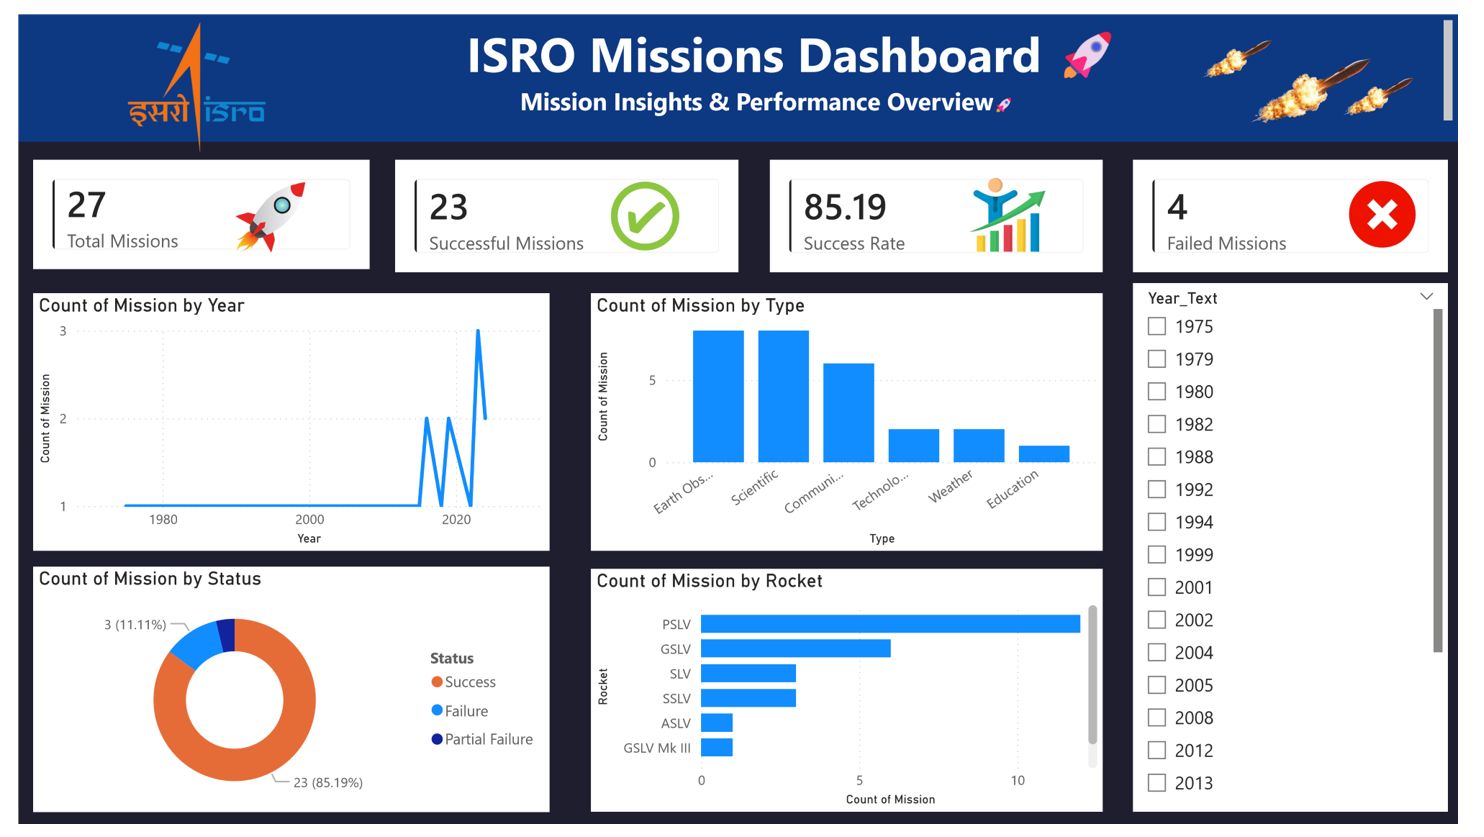

This screenshot's page, from the dashboard's own definition file:
{"tool":"powerbi","page":{"name":"Page 1","canvas":[1280,720],"ordinal":0},"visuals":[{"type":"cardVisual","fields":{"Data":["Sheet1.Total Missions"]},"box":[12.9,128.9,299.6,96.6],"z":0},{"type":"cardVisual","fields":{"Data":["Sheet1.Successful Missions"]},"box":[335,128.9,305,99.9],"z":1000},{"type":"cardVisual","fields":{"Data":["Sheet1.Success Rate"]},"box":[667.9,128.9,296.4,99.9],"z":2000},{"type":"cardVisual","fields":{"Data":["Sheet1.Failed Missions"]},"box":[991.1,128.9,280.3,99.9],"z":3000},{"type":"lineChart","fields":{"Category":["Sheet1.Year"],"Y":["CountNonNull(Sheet1.Mission)"]},"box":[12.9,248.1,459.6,228.7],"z":4000},{"type":"donutChart","fields":{"Category":["Sheet1.Status"],"Y":["CountNonNull(Sheet1.Mission)"]},"box":[12.9,490.7,459.6,218],"z":5000},{"type":"clusteredBarChart","fields":{"Category":["Sheet1.Rocket"],"Y":["CountNonNull(Sheet1.Mission)"]},"box":[509,492.9,455.3,215.8],"z":6000},{"type":"clusteredColumnChart","fields":{"Category":["Sheet1.Type"],"Y":["CountNonNull(Sheet1.Mission)"]},"box":[509,248.1,455.3,228.7],"z":7000},{"type":"slicer","fields":{"Values":["Sheet1.Year_Text"]},"box":[991.1,239.5,280.3,469.3],"z":8000},{"type":"textbox","box":[0,0,1280,112.8],"z":9000},{"type":"image","box":[41.9,0,233,136.4],"z":10000},{"type":"image","box":[136.4,112.8,176.1,133.2],"z":11000},{"type":"image","box":[499.3,143.9,116,69.8],"z":12000},{"type":"image","box":[807.5,143.9,141.7,67.7],"z":13000},{"type":"image","box":[1154.4,140.7,117,73],"z":14000},{"type":"image","box":[1025.5,0,245.9,136.4],"z":15000},{"type":"image","box":[1137.2,33.3,142.8,79.5],"z":16000},{"type":"image","box":[1011.5,0,165.4,112.8],"z":17000}]}

Visuals, with their boxes in screenshot pixels (x1, y1, x2, y2), scaled from the page's 1280x720 canvas onto the 1484x837 screenshot:
cardVisual - Sheet1.Total Missions: left=15, top=150, right=362, bottom=262
cardVisual - Sheet1.Successful Missions: left=388, top=150, right=742, bottom=266
cardVisual - Sheet1.Success Rate: left=774, top=150, right=1118, bottom=266
cardVisual - Sheet1.Failed Missions: left=1149, top=150, right=1474, bottom=266
lineChart - Sheet1.Year x CountNonNull(Sheet1.Mission): left=15, top=288, right=548, bottom=554
donutChart - Sheet1.Status x CountNonNull(Sheet1.Mission): left=15, top=570, right=548, bottom=824
clusteredBarChart - Sheet1.Rocket x CountNonNull(Sheet1.Mission): left=590, top=573, right=1118, bottom=824
clusteredColumnChart - Sheet1.Type x CountNonNull(Sheet1.Mission): left=590, top=288, right=1118, bottom=554
slicer - Sheet1.Year_Text: left=1149, top=278, right=1474, bottom=824
textbox: left=0, top=0, right=1483, bottom=131
image: left=49, top=0, right=319, bottom=159
image: left=158, top=131, right=362, bottom=286
image: left=579, top=167, right=713, bottom=248
image: left=936, top=167, right=1100, bottom=246
image: left=1338, top=164, right=1474, bottom=248
image: left=1189, top=0, right=1474, bottom=159
image: left=1318, top=39, right=1483, bottom=131
image: left=1173, top=0, right=1364, bottom=131
